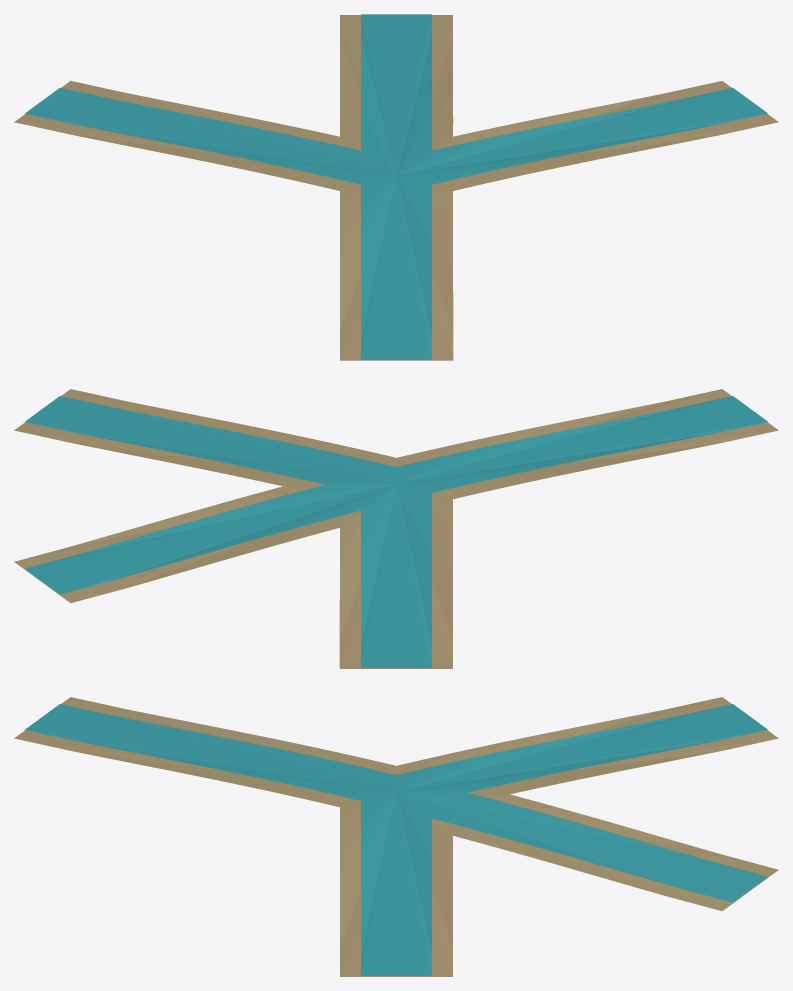
The model's file is RIVER_23.fbx.
3 renders of one model, top to bottom at view 1: azimuth 30°, elevation 25°; view 2: azimuth 150°, elevation 25°; view 3: azimuth 270°, elevation 25°, orthographic.
Visible parts, largest first — view 1: Channel_surface.019, Channel_surface.018; view 2: Channel_surface.019, Channel_surface.018; view 3: Channel_surface.019, Channel_surface.018.
Part boxes in pixels (x1,y1,x2,y2): Channel_surface.019: (25,14,767,359); Channel_surface.018: (14,15,778,360); Channel_surface.019: (25,396,767,667); Channel_surface.018: (14,389,778,668); Channel_surface.019: (25,704,767,975); Channel_surface.018: (14,697,778,976).
Size of the model in its own units: 140 by 2.8 by 162.
